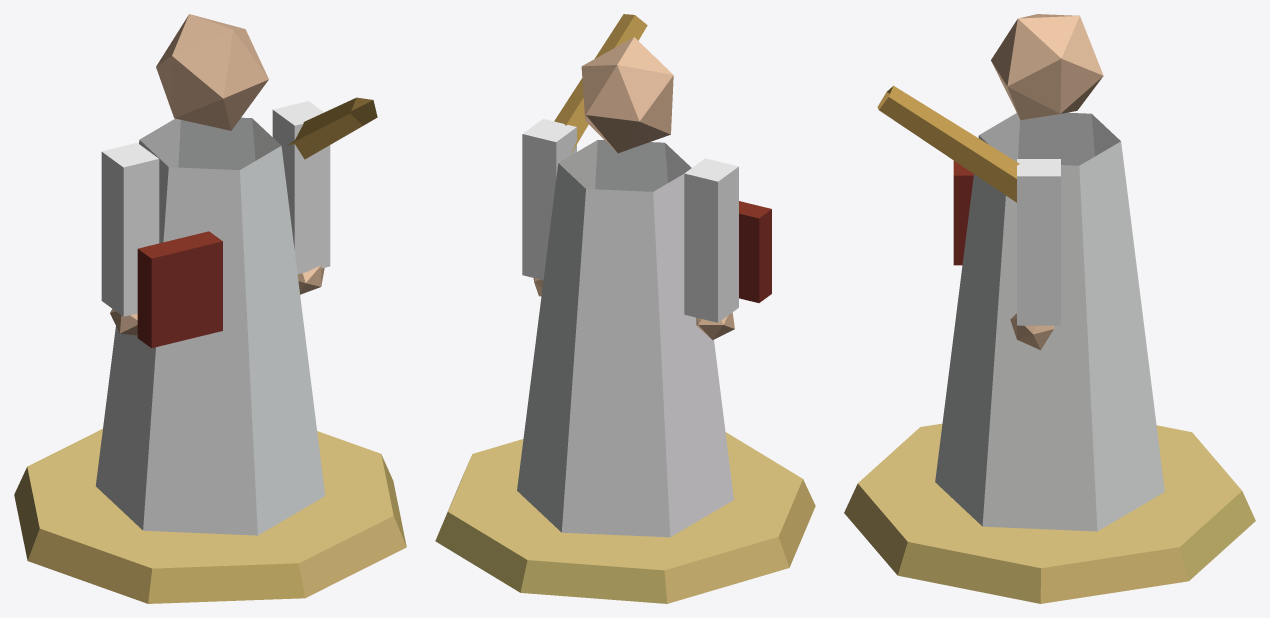
File: Great Scientist.glb
The picture shows the model from 3 angles, left to right: view 1: azimuth 30°, elevation 25°; view 2: azimuth 150°, elevation 25°; view 3: azimuth 270°, elevation 25°; orthographic projection. The views are drawn at different scales.
Visible parts, largest first — view 1: Units_Great Scientist; view 2: Units_Great Scientist; view 3: Units_Great Scientist.
Boxes of the visible parts, x1,y1,x2,y2 form: Units_Great Scientist: [14, 14, 406, 603]; Units_Great Scientist: [435, 14, 815, 603]; Units_Great Scientist: [844, 14, 1255, 603].
Size of the model in its own units: 0.1498 by 0.2014 by 0.1498.
